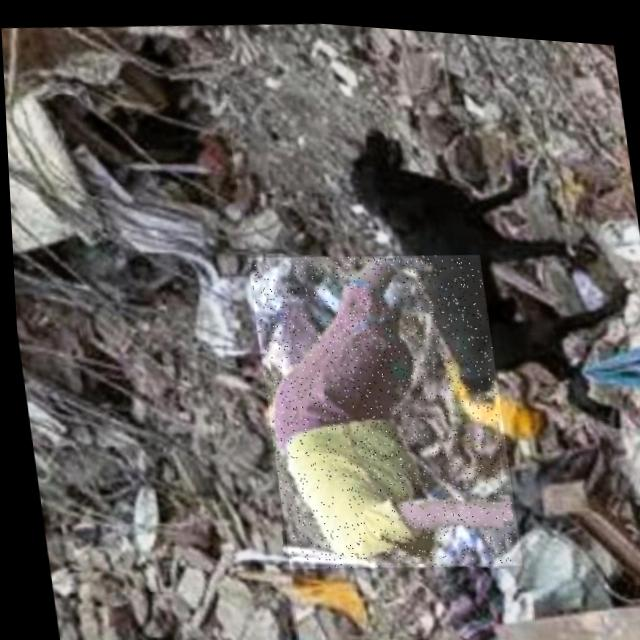Person in Rubble: (244, 232, 517, 576)
